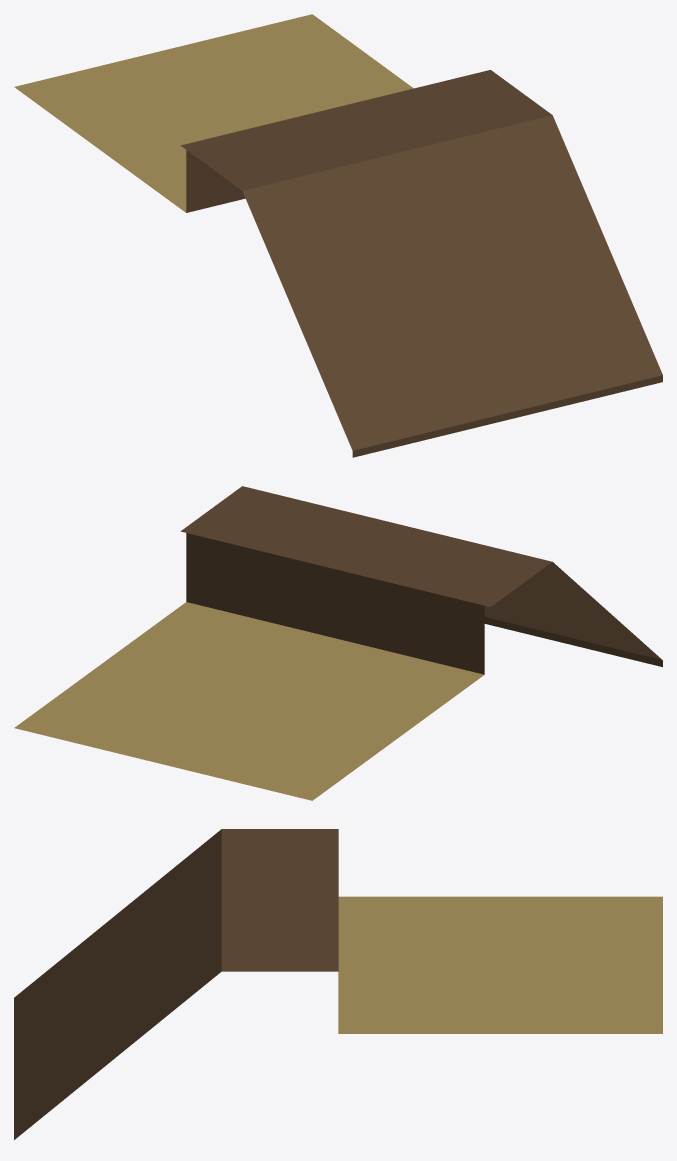
Rendered from Roof Pitch half.fbx.
3 renders of one model, top to bottom at view 1: azimuth 30°, elevation 25°; view 2: azimuth 150°, elevation 25°; view 3: azimuth 270°, elevation 25°, orthographic. The views are drawn at different scales.
Visible parts, largest first — view 1: Roof Pitch.001; view 2: Roof Pitch.001; view 3: Roof Pitch.001.
Boxes of the visible parts, x1=… form: Roof Pitch.001: x1=14, y1=14, x2=662, y2=457; Roof Pitch.001: x1=14, y1=486, x2=662, y2=800; Roof Pitch.001: x1=14, y1=829, x2=662, y2=1139.
Size of the model in its own units: 52 by 29.81 by 100.
